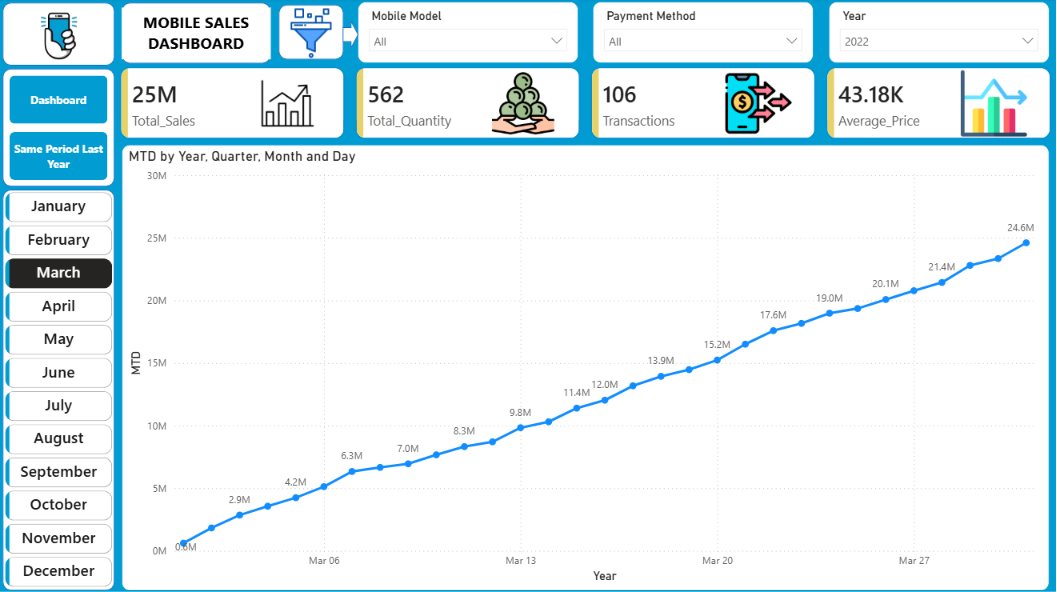

Layout of this report page (visuals, bound fields, positions):
{"tool":"powerbi","page":{"name":"MTD Report","canvas":[1280,720],"ordinal":1},"visuals":[{"type":"shape","box":[6,6,135.1,76],"z":0},{"type":"image","box":[27.7,13.3,92.9,63.9],"z":1000},{"type":"shape","box":[6,85.7,135.1,142.4],"z":2000},{"type":"shape","box":[6,231.6,135.1,483.8],"z":3000},{"type":"advancedSlicerVisual","fields":{"Values":["Custom_Calender.Date.Variation.Date Hierarchy.Month"]},"box":[6,231.6,135.1,483.8],"z":4000},{"type":"cardVisual","fields":{"Data":["Sales_Data.Total_Sales","Sales_Data.Total_Quantity","Sales_Data.Transactions","Sales_Data.Average_Price"]},"box":[141.2,77.2,1138.9,100.1],"z":5000},{"type":"slicer","fields":{"Values":["Sales_Data.Mobile Model"]},"box":[434.3,4.8,266.6,74.8],"z":6000},{"type":"slicer","fields":{"Values":["Sales_Data.Payment Method"]},"box":[717.8,4.8,266.6,74.8],"z":7000},{"type":"slicer","fields":{"Values":["Custom_Calender.Date.Variation.Date Hierarchy.Year"]},"box":[1002.6,4.8,266.6,74.8],"z":8000},{"type":"shape","box":[339,8.4,78.4,66.4],"z":9000},{"type":"image","box":[339,12.1,78.4,61.5],"z":10000},{"type":"shape","box":[416.2,26.5,19.3,36.2],"z":11000},{"type":"shape","box":[149.6,6,179.8,73.6],"z":12000},{"type":"textbox","box":[149.6,12.1,179.8,62.7],"z":13000},{"type":"lineChart","fields":{"Category":["Custom_Calender.Date.Variation.Date Hierarchy.Year","Custom_Calender.Date.Variation.Date Hierarchy.Quarter","Custom_Calender.Date.Variation.Date Hierarchy.Month","Custom_Calender.Date.Variation.Date Hierarchy.Day"],"Y":["Sales_Data.MTD"]},"box":[149.6,177.3,1119.6,538.1],"z":14000},{"type":"pageNavigator","box":[14.5,94.1,118.2,126.7],"z":15000}]}

Visuals, with their boxes in screenshot pixels (x1, y1, x2, y2), scaled from the page's 1280x720 canvas onto the 1057x592 screenshot:
shape: (left=5, top=5, right=117, bottom=67)
image: (left=23, top=11, right=100, bottom=63)
shape: (left=5, top=70, right=117, bottom=188)
shape: (left=5, top=190, right=117, bottom=588)
advancedSlicerVisual - Custom_Calender.Date.Variation.Date Hierarchy.Month: (left=5, top=190, right=117, bottom=588)
cardVisual - Sales_Data.Total_Sales x Sales_Data.Total_Quantity: (left=117, top=63, right=1056, bottom=146)
slicer - Sales_Data.Mobile Model: (left=359, top=4, right=579, bottom=65)
slicer - Sales_Data.Payment Method: (left=593, top=4, right=813, bottom=65)
slicer - Custom_Calender.Date.Variation.Date Hierarchy.Year: (left=828, top=4, right=1048, bottom=65)
shape: (left=280, top=7, right=345, bottom=62)
image: (left=280, top=10, right=345, bottom=61)
shape: (left=344, top=22, right=360, bottom=52)
shape: (left=124, top=5, right=272, bottom=65)
textbox: (left=124, top=10, right=272, bottom=62)
lineChart - Custom_Calender.Date.Variation.Date Hierarchy.Year x Custom_Calender.Date.Variation.Date Hierarchy.Quarter: (left=124, top=146, right=1048, bottom=588)
pageNavigator: (left=12, top=77, right=110, bottom=182)
